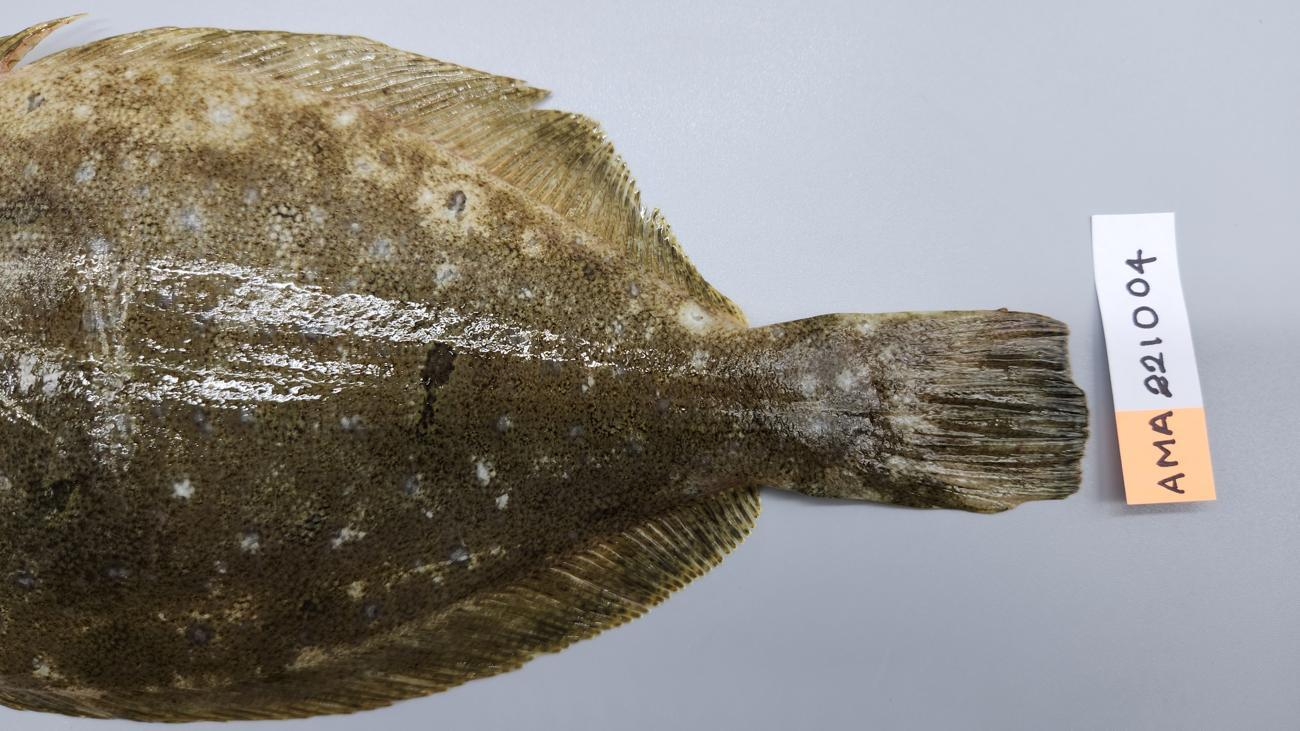MAFCH: (896, 306, 1090, 513)
